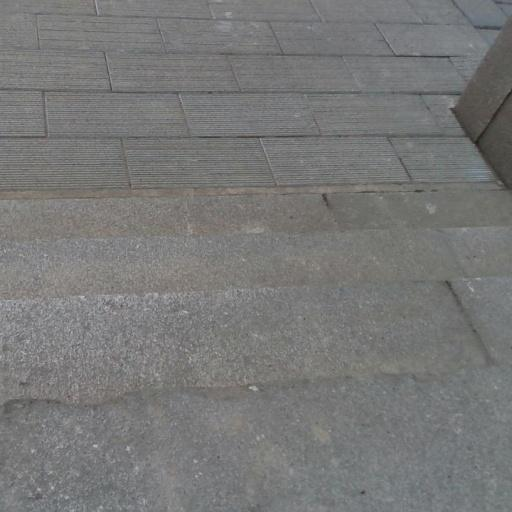stairs: (0, 188, 511, 511)
